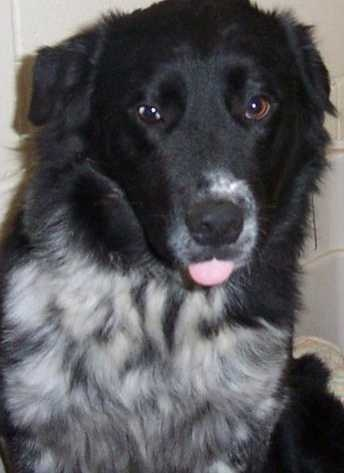Dog: (0, 0, 341, 457)
